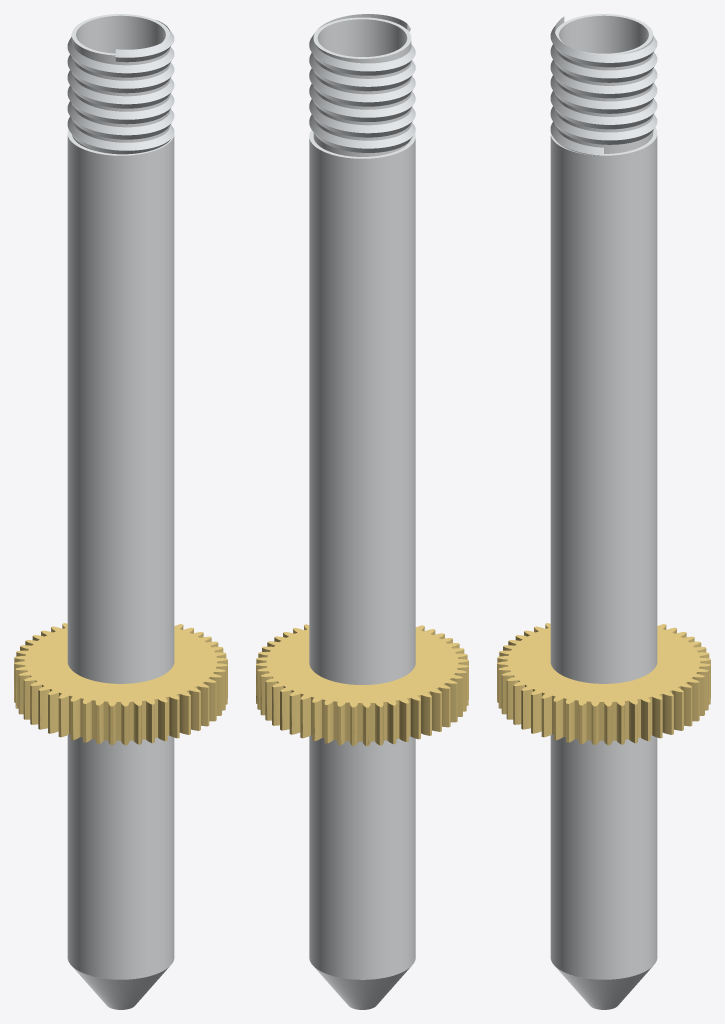
3 renders of one model, left to right at view 1: azimuth 30°, elevation 25°; view 2: azimuth 150°, elevation 25°; view 3: azimuth 270°, elevation 25°, orthographic.
Size of the model in its own units: 0.05 by 0.2516 by 0.05.
